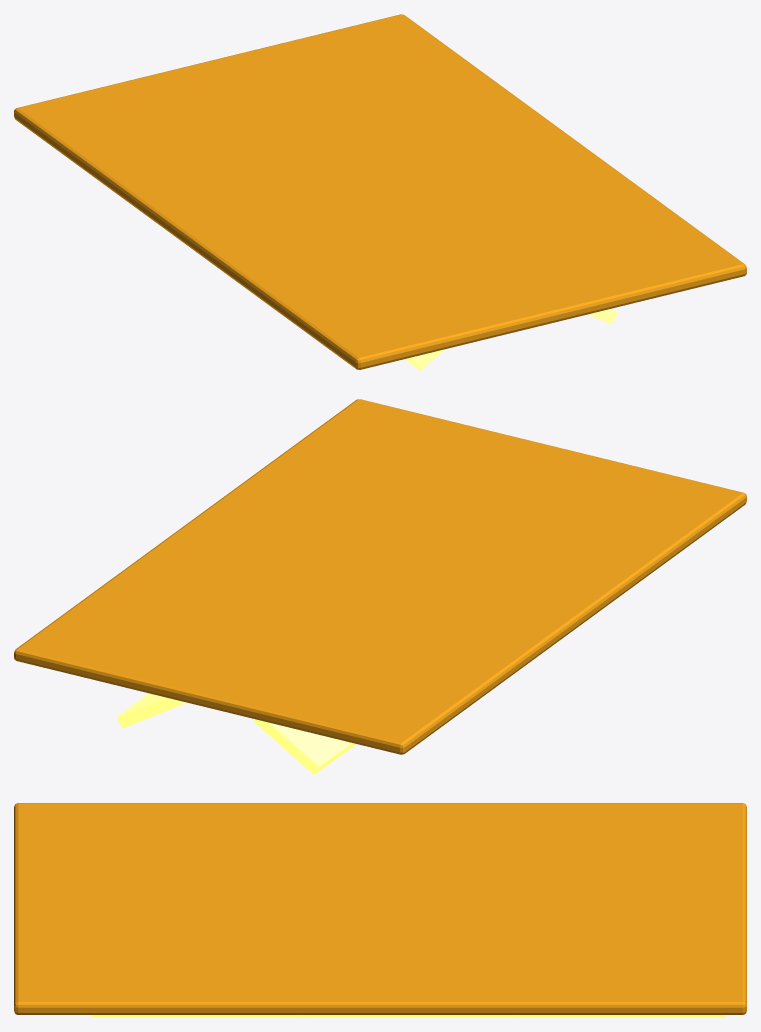
Rendered from boostpad.glb.
The picture shows the model from 3 angles, top to bottom: view 1: azimuth 30°, elevation 25°; view 2: azimuth 150°, elevation 25°; view 3: azimuth 270°, elevation 25°; orthographic projection. The views are drawn at different scales.
Visible parts, largest first — view 1: Base; view 2: Base, Arr2-1, Arr21; view 3: Base, Arr01, Arr11, Arr21.
Part boxes in pixels (bbox=[...]): Base: bbox=[14, 14, 746, 369]; Base: bbox=[14, 399, 746, 754]; Arr2-1: bbox=[254, 719, 355, 774]; Arr21: bbox=[117, 693, 185, 727]; Base: bbox=[14, 803, 746, 1014]; Arr01: bbox=[91, 1015, 302, 1017]; Arr11: bbox=[303, 1015, 514, 1017]; Arr21: bbox=[514, 1015, 725, 1017].
Size of the model in its own units: 3.4 by 0.5139 by 5.2.
